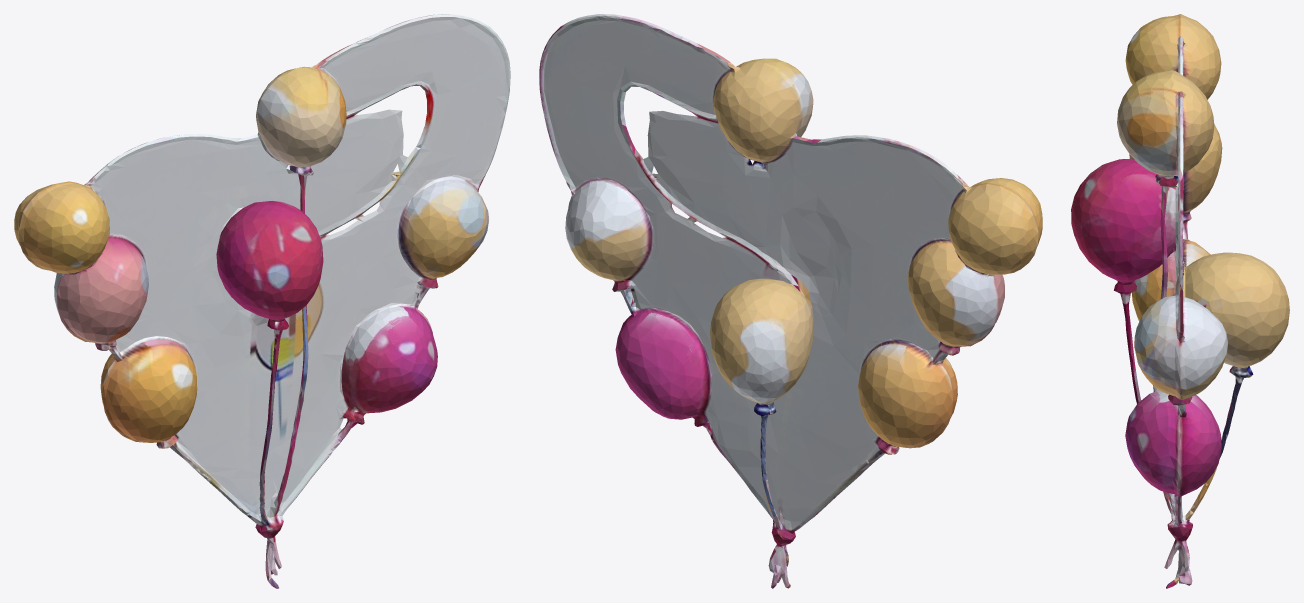
The model's file is balloon.glb.
3 views of the same model, side by side, from view 1: azimuth 30°, elevation 25°; view 2: azimuth 150°, elevation 25°; view 3: azimuth 270°, elevation 25° (orthographic). The views are drawn at different scales.
Parts seen in each view (by area): view 1: tmpaj_mk4ow.ply; view 2: tmpaj_mk4ow.ply; view 3: tmpaj_mk4ow.ply.
Boxes of the visible parts, x1,y1,x2,y2 form: tmpaj_mk4ow.ply: (14,14,510,588); tmpaj_mk4ow.ply: (539,14,1042,588); tmpaj_mk4ow.ply: (1071,14,1289,588).
Bounding box in the file's own units: 1.93 × 1.99 × 0.7271.
1 material, 1 textured.
